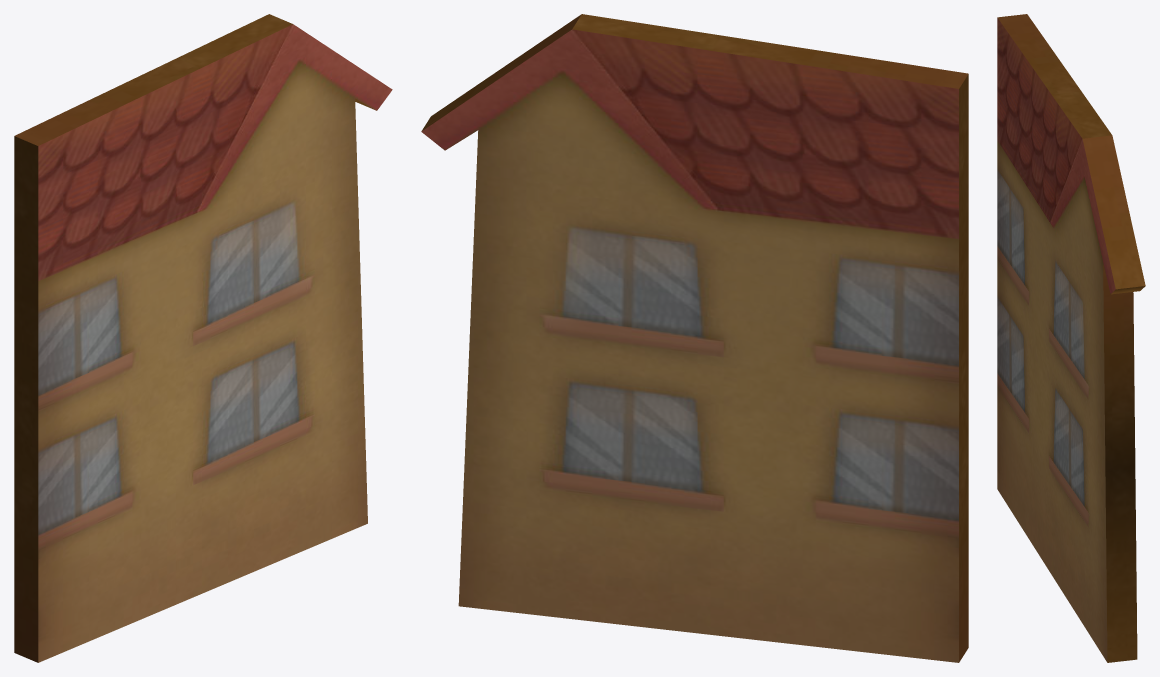
The model's file is building1.FBX.
3 renders of one model, left to right at view 1: azimuth 30°, elevation 25°; view 2: azimuth 150°, elevation 25°; view 3: azimuth 270°, elevation 25°, orthographic. The views are drawn at different scales.
Parts seen in each view (by area): view 1: Box121; view 2: Box121; view 3: Box121.
Boxes of the visible parts, x1,y1,x2,y2 form: Box121: (14,14,392,662); Box121: (421,14,968,662); Box121: (997,14,1145,662).
Size of the model in its own units: 20.91 by 24.84 by 6.89.
